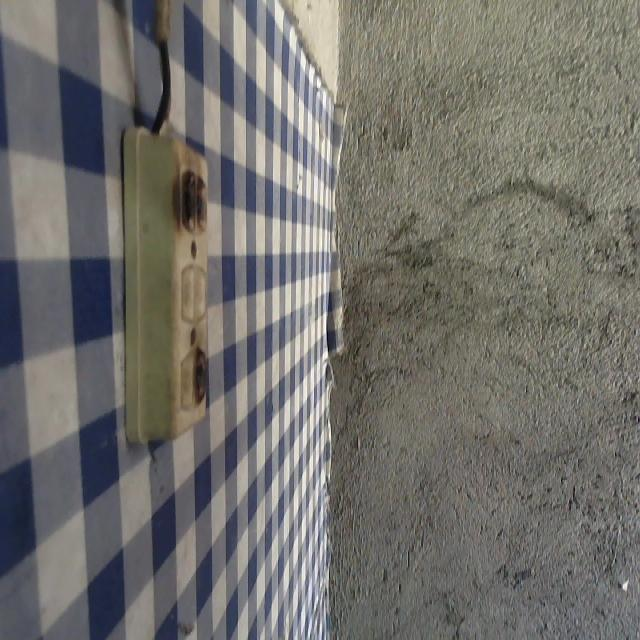-: (175, 163, 210, 240), (189, 344, 218, 417)
